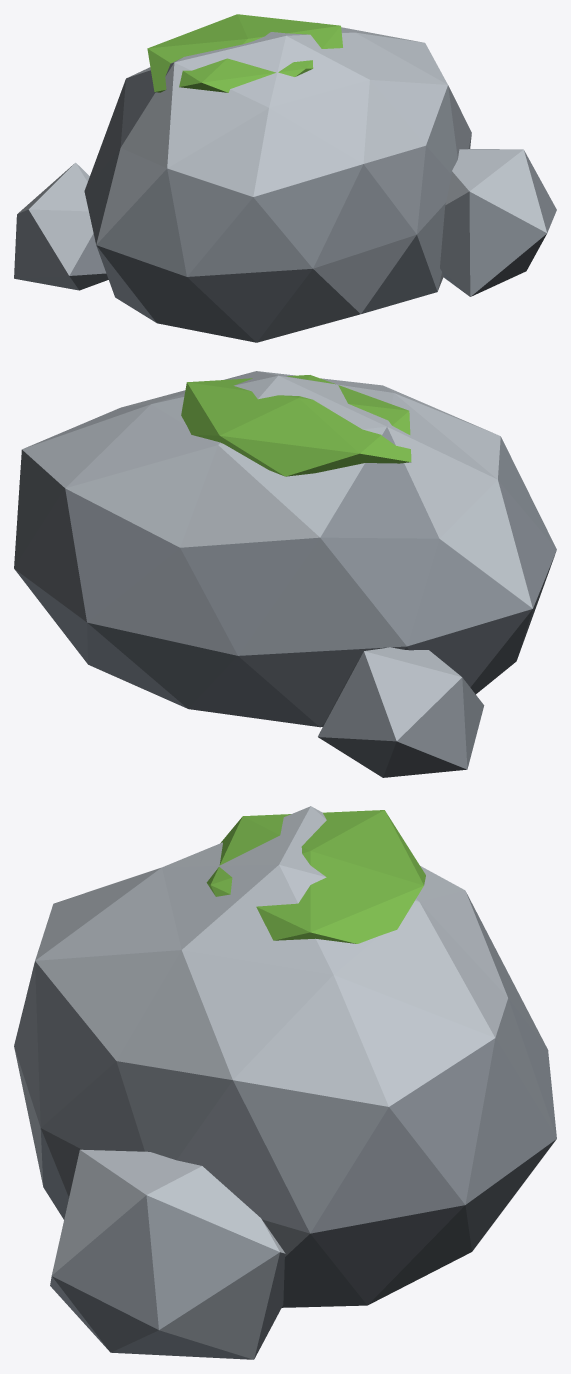
The model's file is rock.glb.
3 renders of one model, top to bottom at view 1: azimuth 30°, elevation 25°; view 2: azimuth 150°, elevation 25°; view 3: azimuth 270°, elevation 25°, orthographic. The views are drawn at different scales.
Visible parts, largest first — view 1: rock; view 2: rock; view 3: rock.
Part boxes in pixels (x1,y1,x2,y2): rock: (14, 14, 556, 342); rock: (14, 371, 556, 777); rock: (14, 806, 556, 1359).
Size of the model in its own units: 0.4876 by 0.25 by 0.3467.
